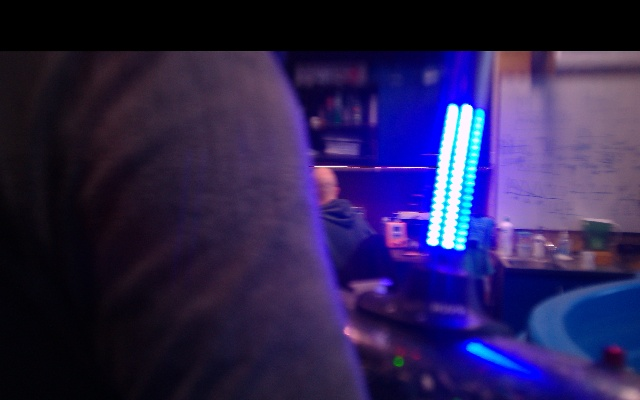blue: (424, 103, 487, 251)
